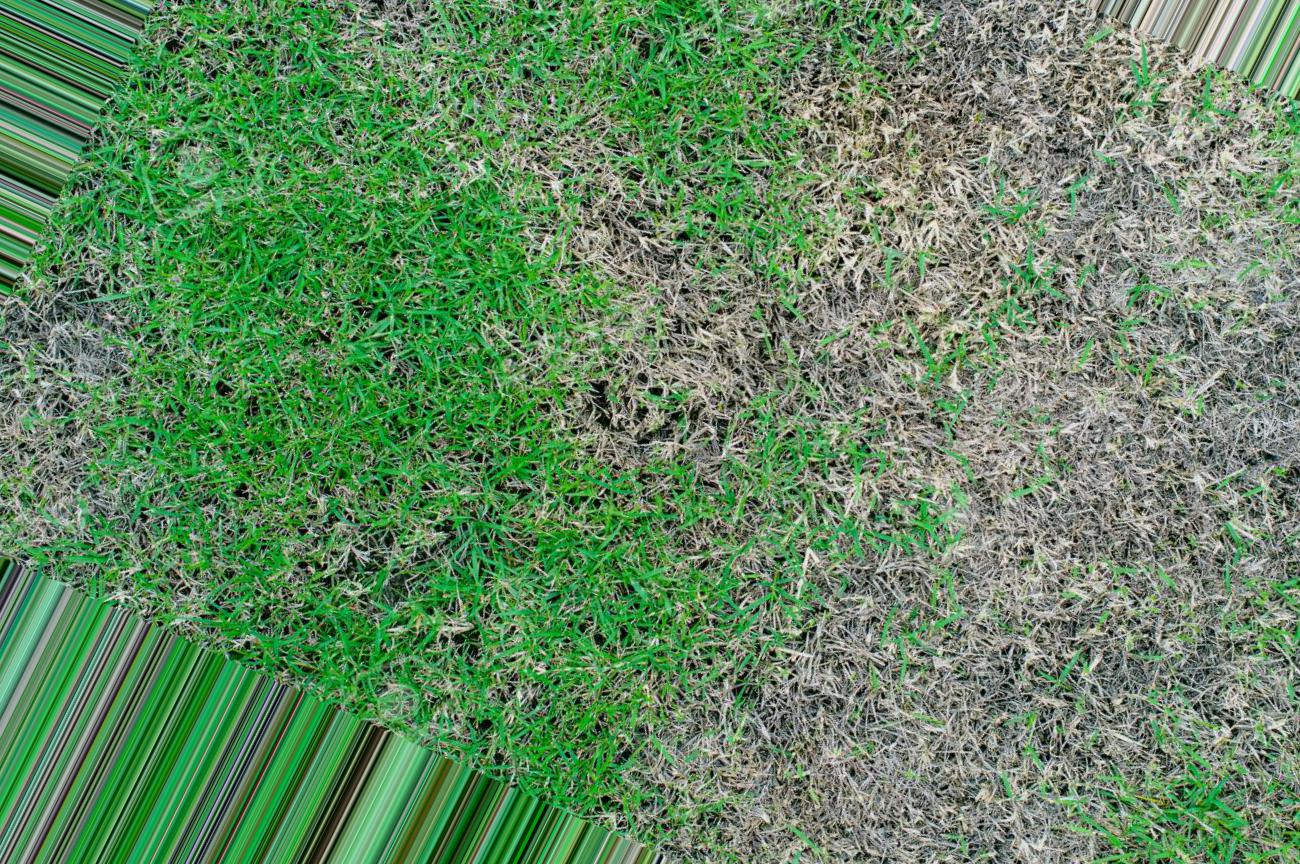patch: (918, 418, 1217, 807), (559, 186, 844, 482), (940, 124, 1186, 397), (718, 651, 884, 836), (17, 311, 88, 445)
